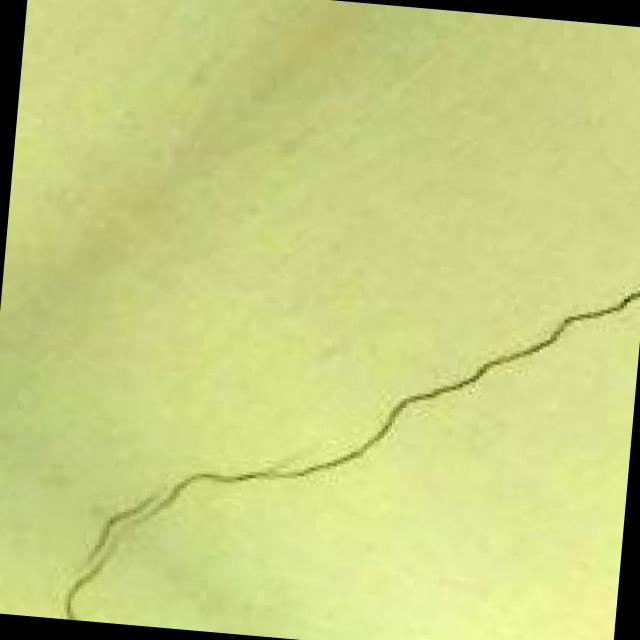crack: (53, 222, 640, 640)
